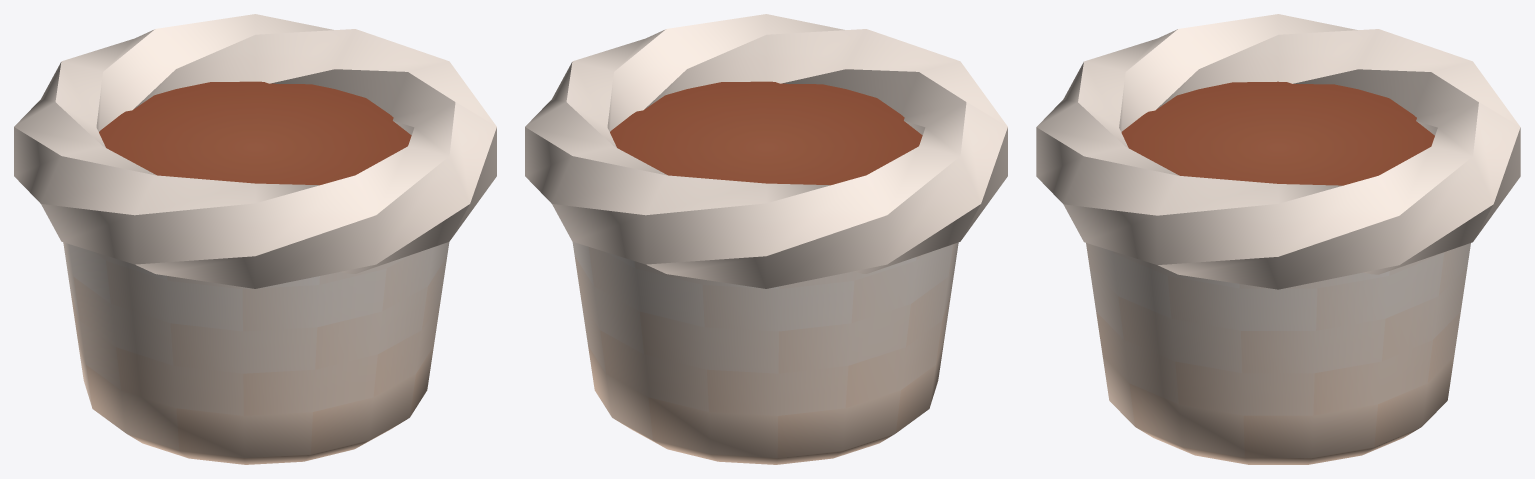
Rendered from Pot_D_large.fbx.
3 views of the same model, side by side, from view 1: azimuth 30°, elevation 25°; view 2: azimuth 150°, elevation 25°; view 3: azimuth 270°, elevation 25° (orthographic).
Visible parts, largest first — view 1: Pot_D_large; view 2: Pot_D_large; view 3: Pot_D_large.
Boxes of the visible parts, x1,y1,x2,y2 form: Pot_D_large: [14, 14, 496, 464]; Pot_D_large: [525, 14, 1007, 464]; Pot_D_large: [1036, 14, 1520, 464].
Bounding box in the file's own units: 150 × 100 × 146.
Materials: 1 (1 with a texture image).
